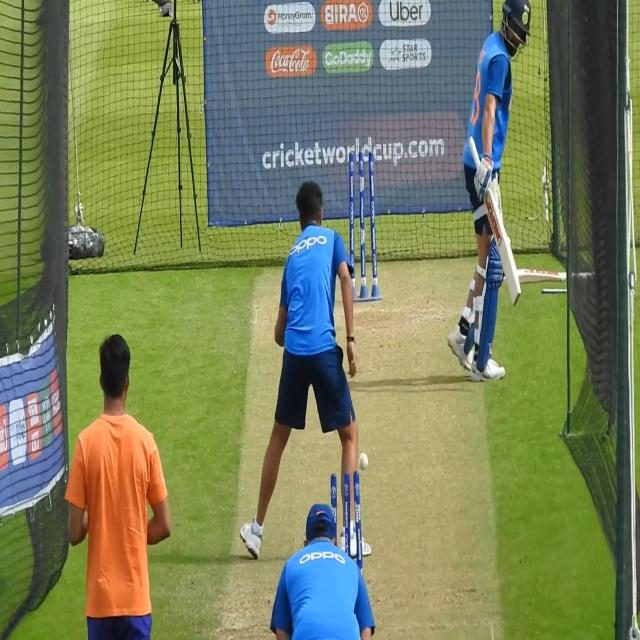ball: (358, 450, 369, 474)
stump: (347, 148, 380, 304)
